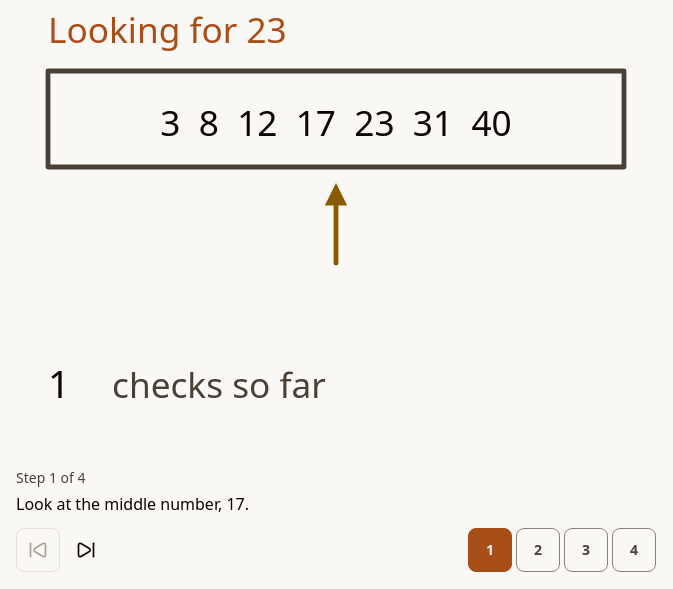
Test: reduced motion shows each finished picture without play controls (AN-13)
Click the button named "Next".
click(86, 550)  # box x1=64 y1=528 x2=108 y2=572
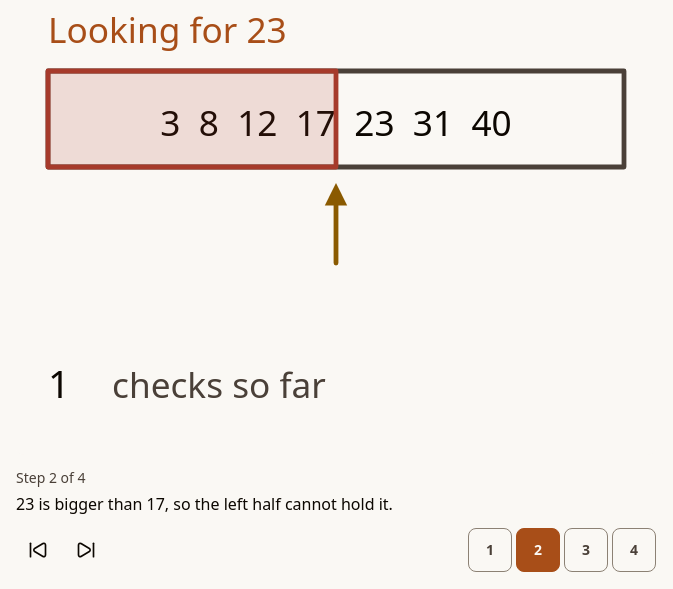
Result: the text with class "an-caption-text" reads "23 is bigger than 17, so the left half cannot hold it." at x1=16 y1=493 x2=393 y2=515
